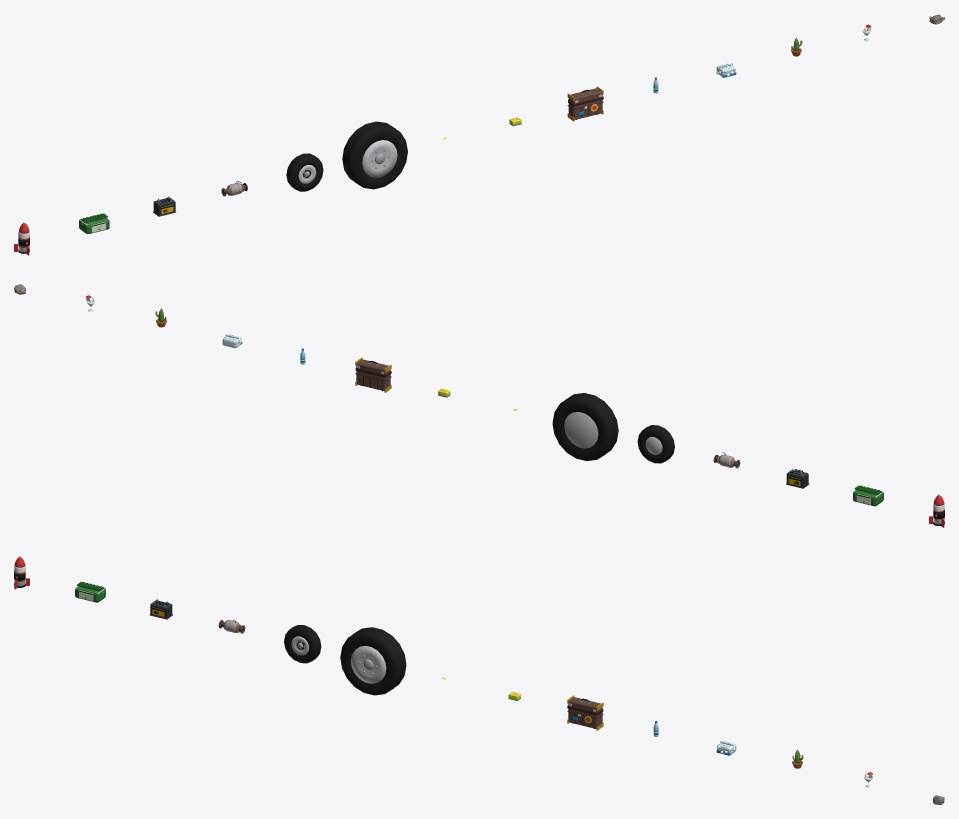
Rendered from items2.glb.
3 views of the same model, one above another, from view 1: azimuth 30°, elevation 25°; view 2: azimuth 150°, elevation 25°; view 3: azimuth 330°, elevation 25° (orthographic).
Parts seen in each view (by area): view 1: spare, wheel, suitcase; view 2: spare, wheel, suitcase; view 3: spare, wheel, suitcase.
Part boxes in pixels (x1,y1,x2,y2): spare: (342,121,407,189); wheel: (286,153,323,191); suitcase: (567,86,603,121); spare: (552,393,618,460); wheel: (637,425,674,463); suitcase: (355,357,391,392); spare: (340,627,406,695); wheel: (284,625,321,663); suitcase: (567,695,603,730).
Bounding box in the file's own units: 13.2 × 0.8272 × 0.268.
